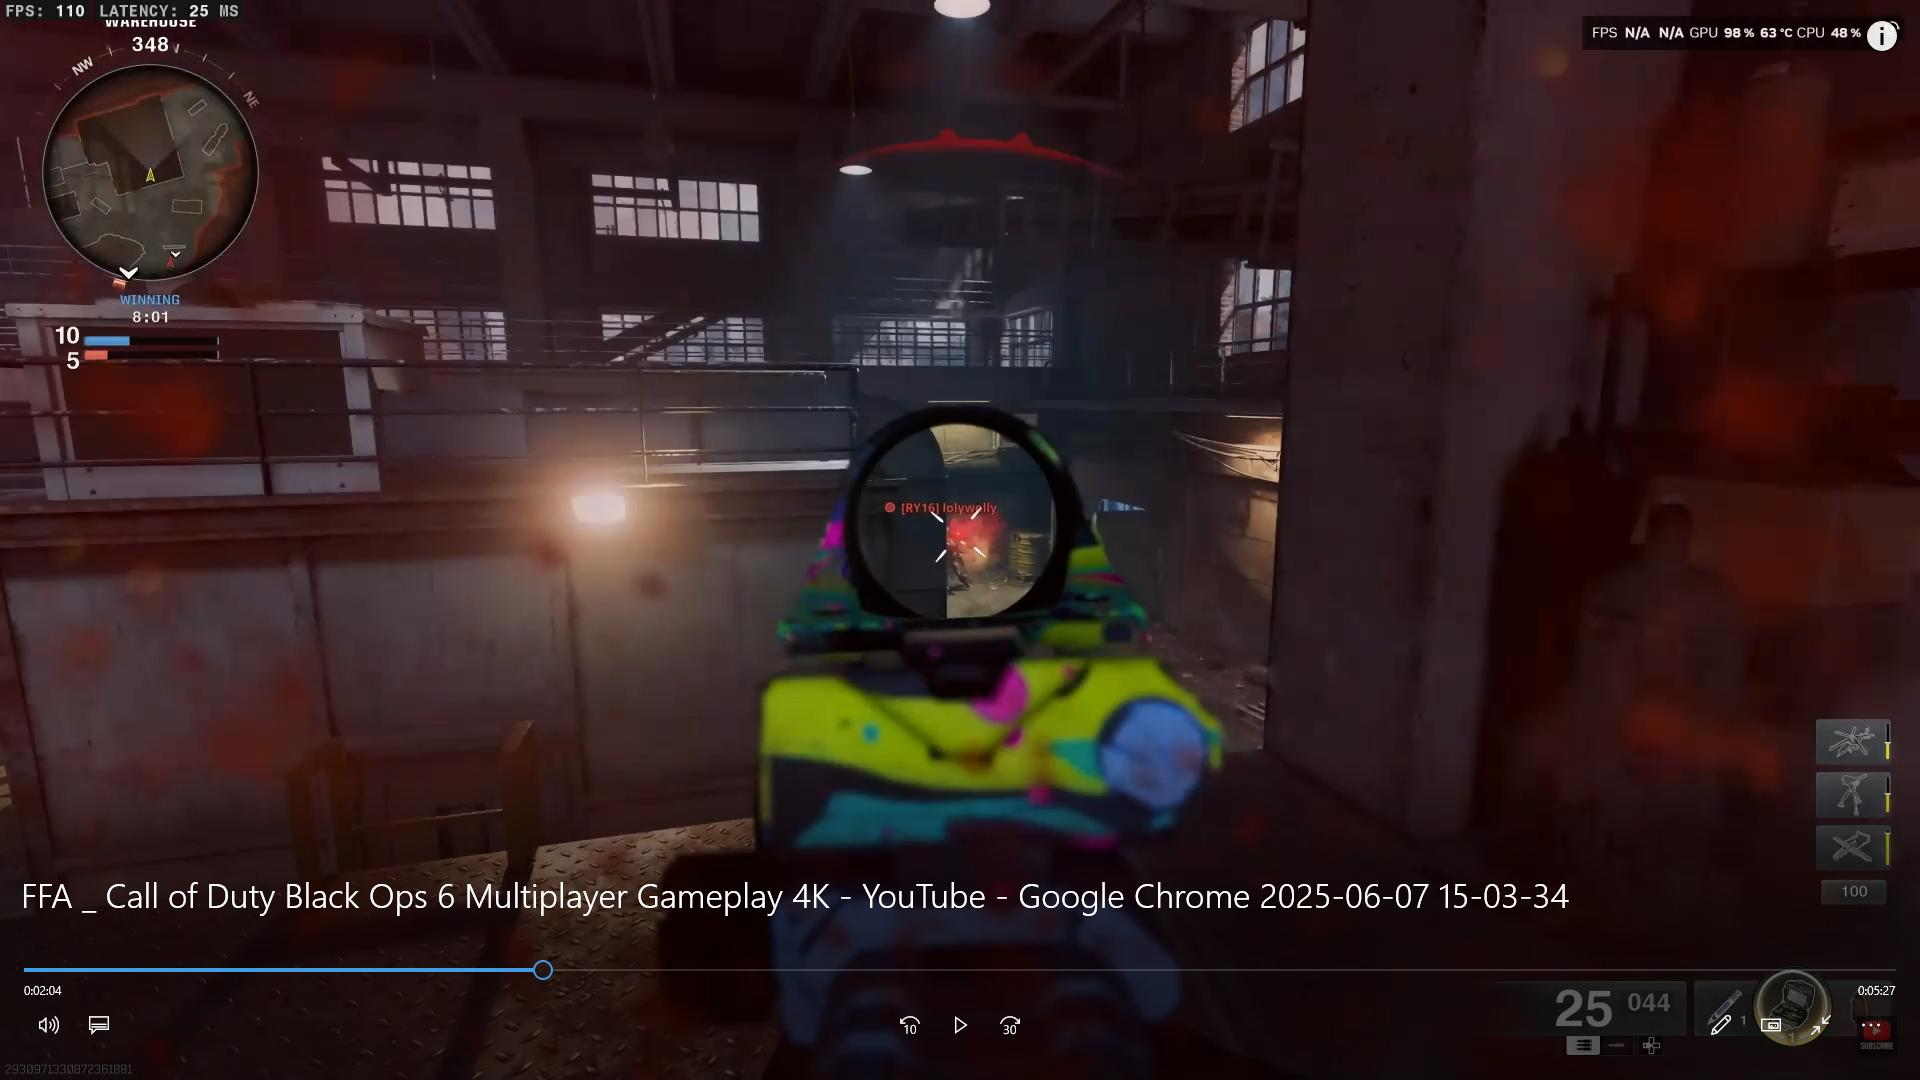Enemy: (939, 516, 975, 591)
